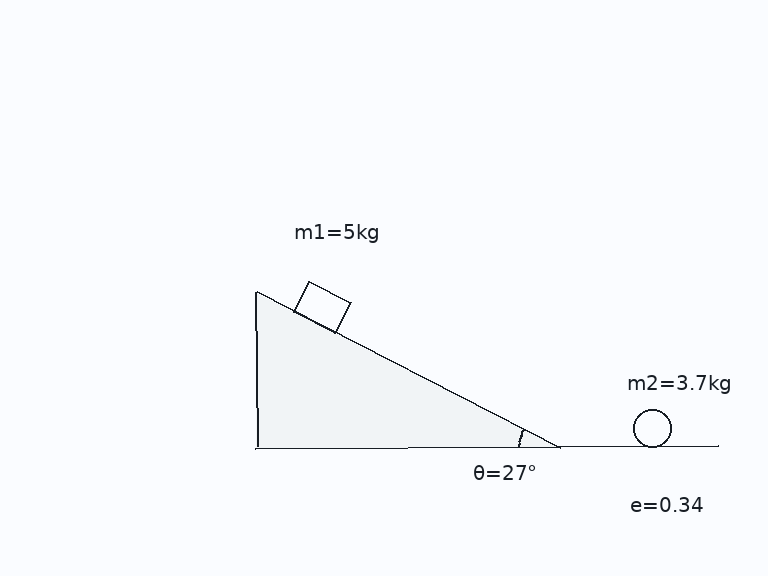ball: (631, 407, 673, 449)
block: (292, 279, 352, 335)
ramp: (255, 291, 561, 449)
